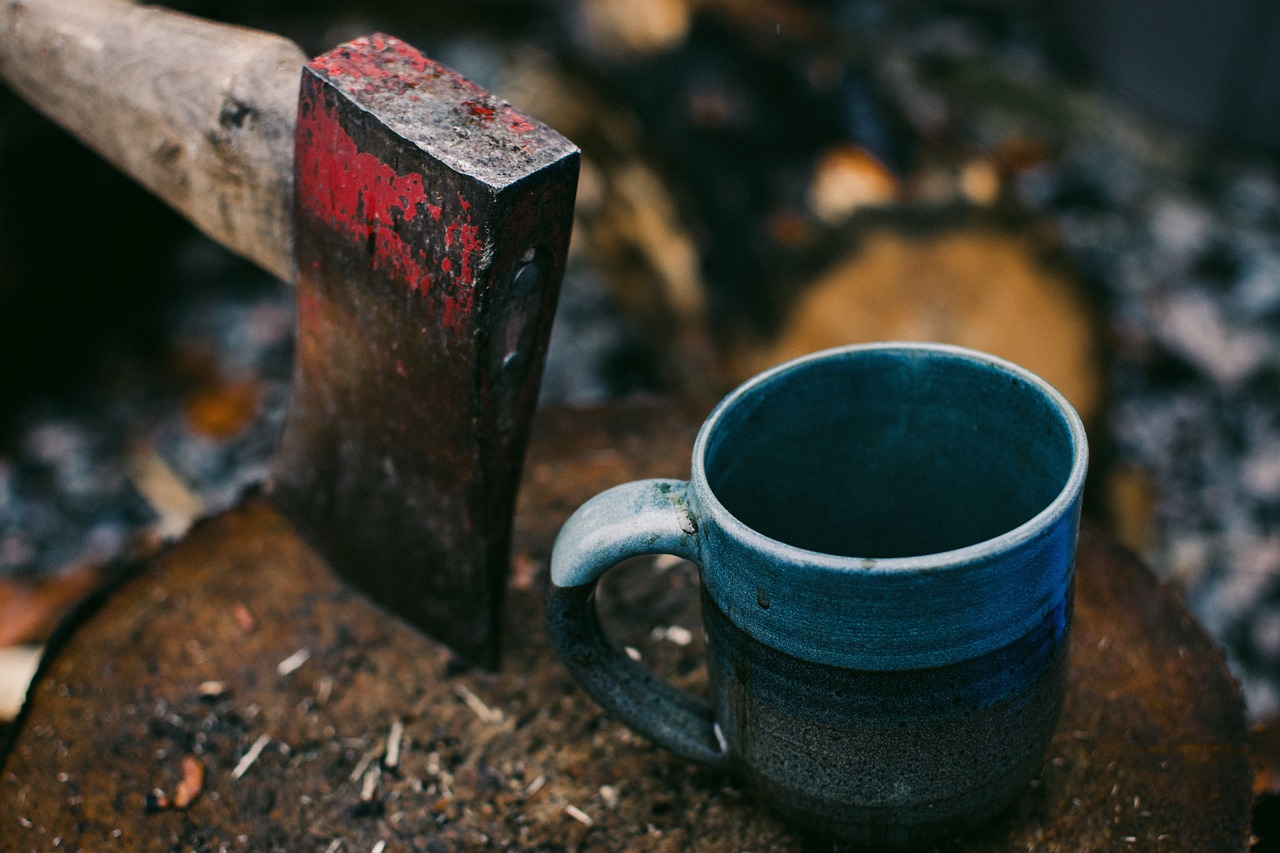mug: (545, 333, 1117, 833)
